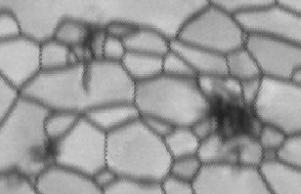good_void: (202, 79, 265, 146), (70, 28, 102, 94), (27, 117, 64, 168), (227, 142, 250, 170)
